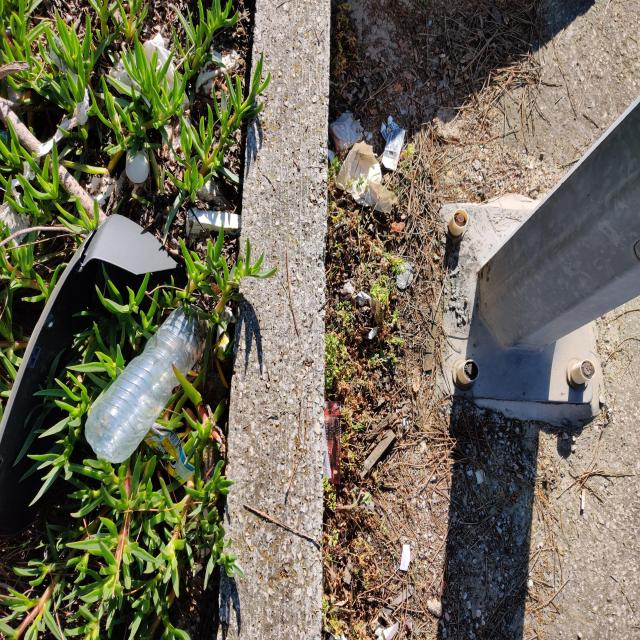litter: (85, 303, 206, 463)
